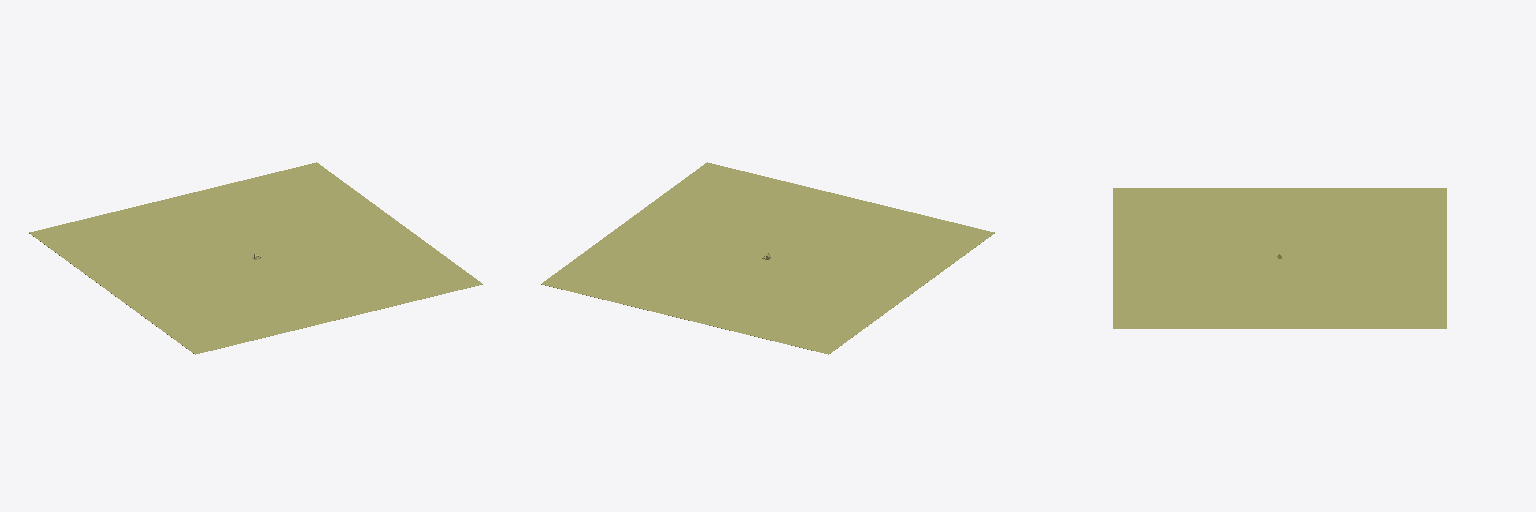
File: house.obj
3 renders of one model, left to right at view 1: azimuth 30°, elevation 25°; view 2: azimuth 150°, elevation 25°; view 3: azimuth 270°, elevation 25°, orthographic.
Parts seen in each view (by area): view 1: Cube; view 2: Cube; view 3: Cube.
Part boxes in pixels (bbox=[...]): Cube: bbox=[29, 162, 482, 354]; Cube: bbox=[541, 162, 994, 354]; Cube: bbox=[1113, 188, 1446, 328].
Size of the model in its own units: 400 by 7 by 400.